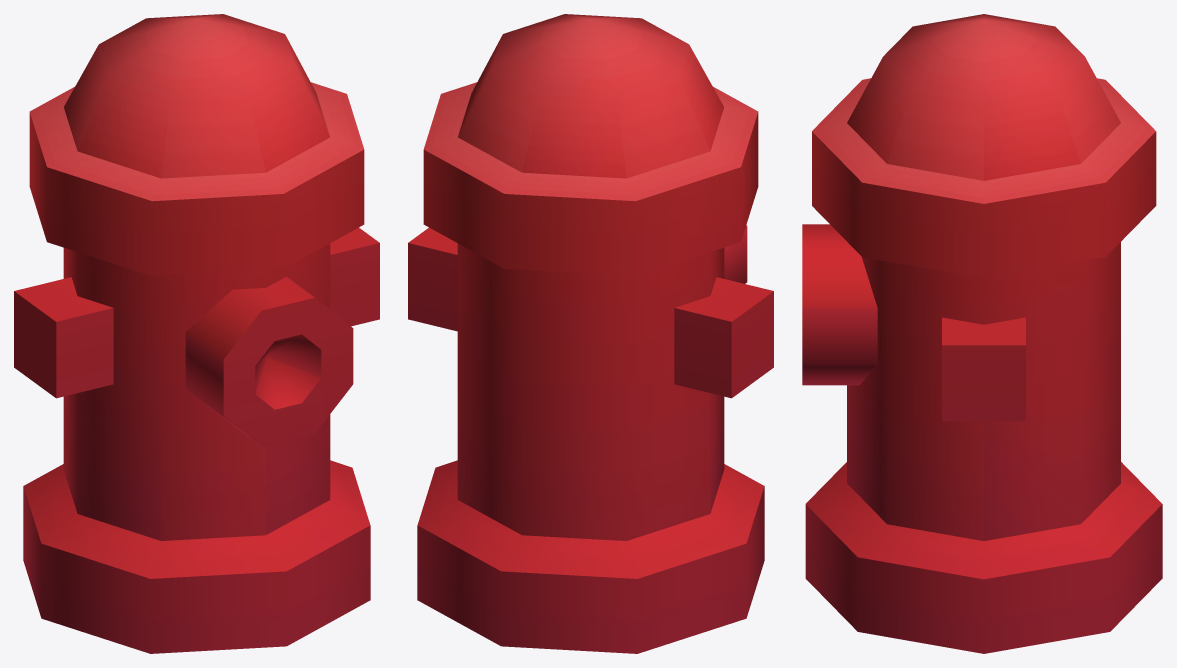
File: hydrant.glb
3 views of the same model, side by side, from view 1: azimuth 30°, elevation 25°; view 2: azimuth 150°, elevation 25°; view 3: azimuth 270°, elevation 25° (orthographic).
Visible parts, largest first — view 1: firehydrant; view 2: firehydrant; view 3: firehydrant.
Boxes of the visible parts, x1,y1,x2,y2 form: firehydrant: [14, 14, 379, 653]; firehydrant: [408, 14, 773, 653]; firehydrant: [802, 14, 1162, 653].
Size of the model in its own units: 0.1355 by 0.2246 by 0.1313.
Materials: 1 (1 with a texture image).
